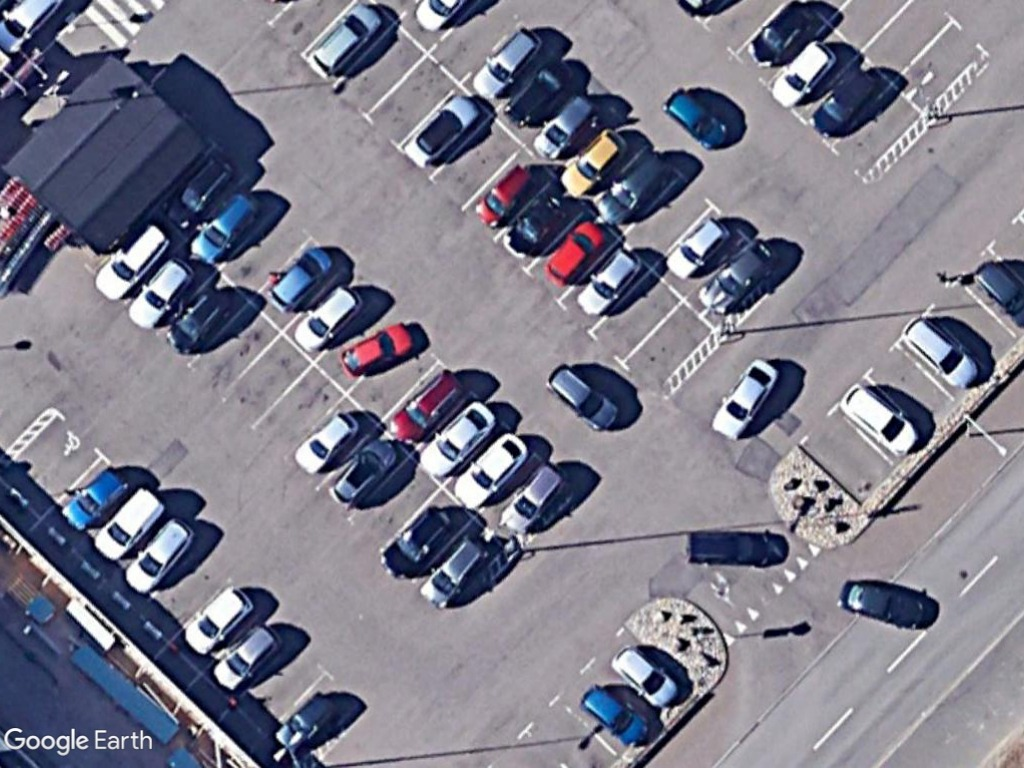car: (447, 429, 534, 514), (696, 233, 782, 318), (303, 0, 390, 84), (836, 379, 926, 460), (88, 219, 174, 303), (388, 364, 471, 449), (401, 91, 485, 173), (898, 311, 983, 391), (381, 499, 458, 587), (421, 396, 501, 480), (120, 513, 196, 599), (709, 355, 782, 444), (541, 359, 626, 434), (418, 529, 492, 612), (184, 187, 262, 265), (155, 279, 233, 356), (92, 484, 167, 564), (205, 618, 283, 694), (495, 456, 568, 537), (125, 255, 198, 336), (576, 678, 656, 751), (335, 317, 422, 384), (470, 24, 547, 99), (573, 243, 646, 322), (805, 61, 877, 141), (498, 185, 573, 261), (556, 126, 630, 202), (528, 87, 601, 163), (328, 436, 399, 514), (286, 406, 362, 478), (289, 281, 364, 353), (834, 576, 933, 630), (468, 158, 543, 229), (659, 83, 734, 153), (60, 459, 134, 529), (183, 583, 254, 654), (265, 241, 335, 313), (742, 0, 815, 69), (609, 642, 681, 710), (540, 216, 608, 288), (768, 40, 837, 107), (663, 212, 729, 281), (678, 529, 783, 571), (274, 688, 341, 753)
